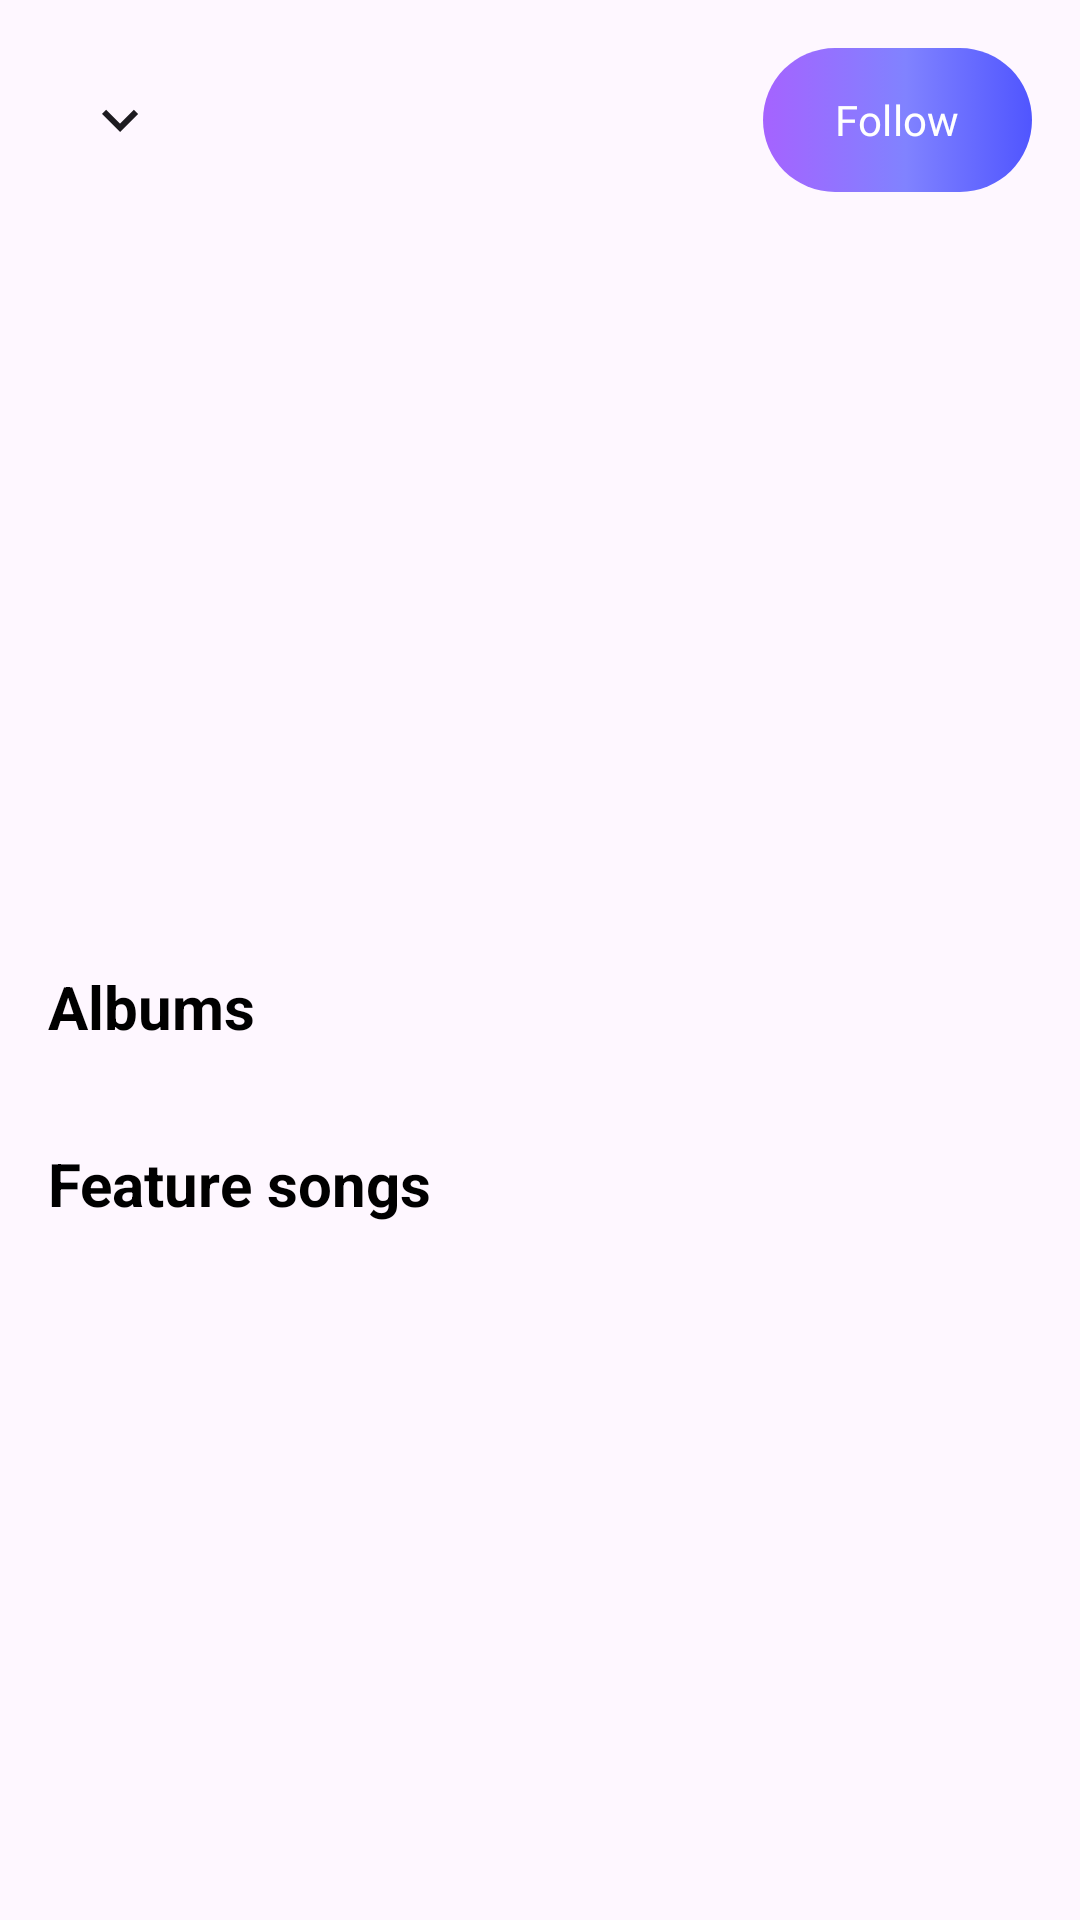

Point at icon controls on the screen. Image size 1080w x 1920h, points as point (x, y).
Close: point (120, 121)
